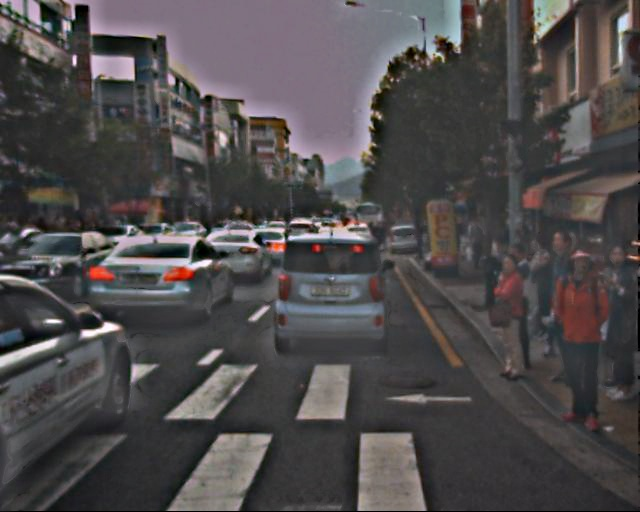person: (545, 248, 622, 435), (532, 227, 597, 386), (587, 243, 640, 399), (484, 257, 535, 382), (520, 239, 566, 352), (464, 213, 487, 270)
